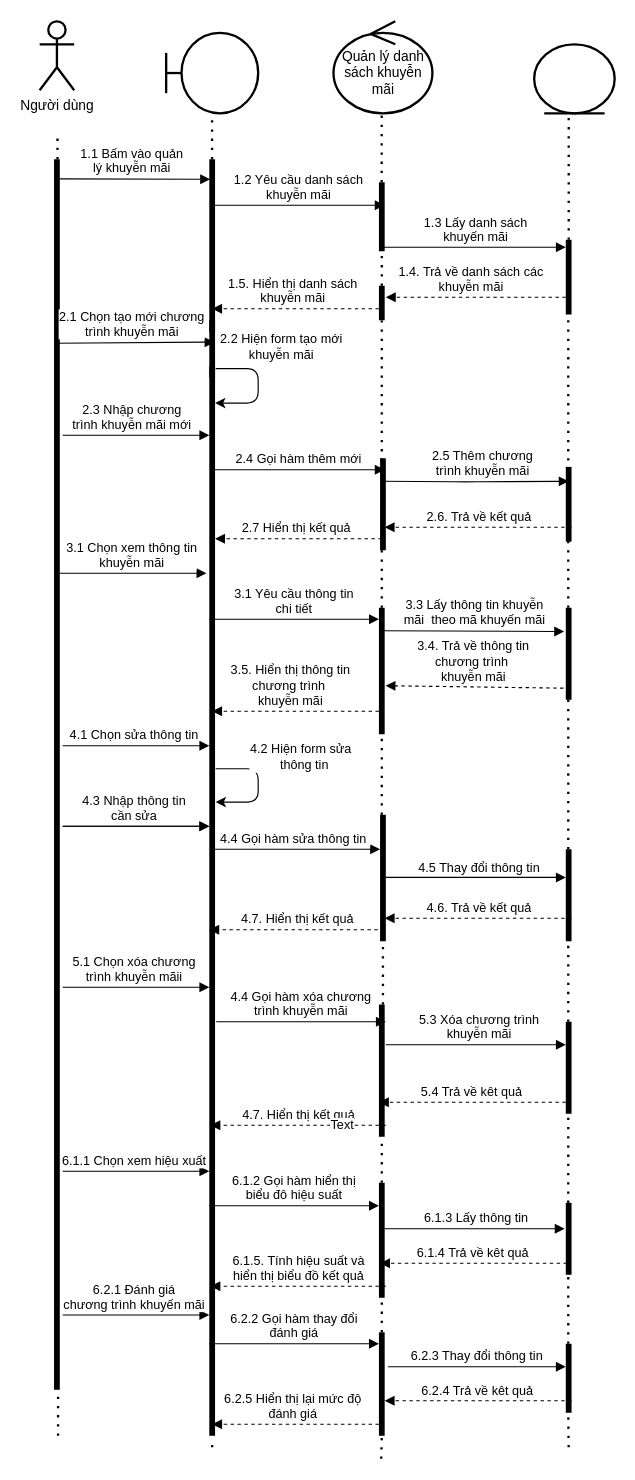
The diagram is 635 pixels wide and 1480 high, and some of its shapes have lost their labels. The box of each missing label's shape, as (x1, y1, x2, y2) in pixels:
Danh sách khuyễn mãi: (532, 43, 615, 114)
Form danh sách khuyễn mãi: (164, 31, 259, 114)
